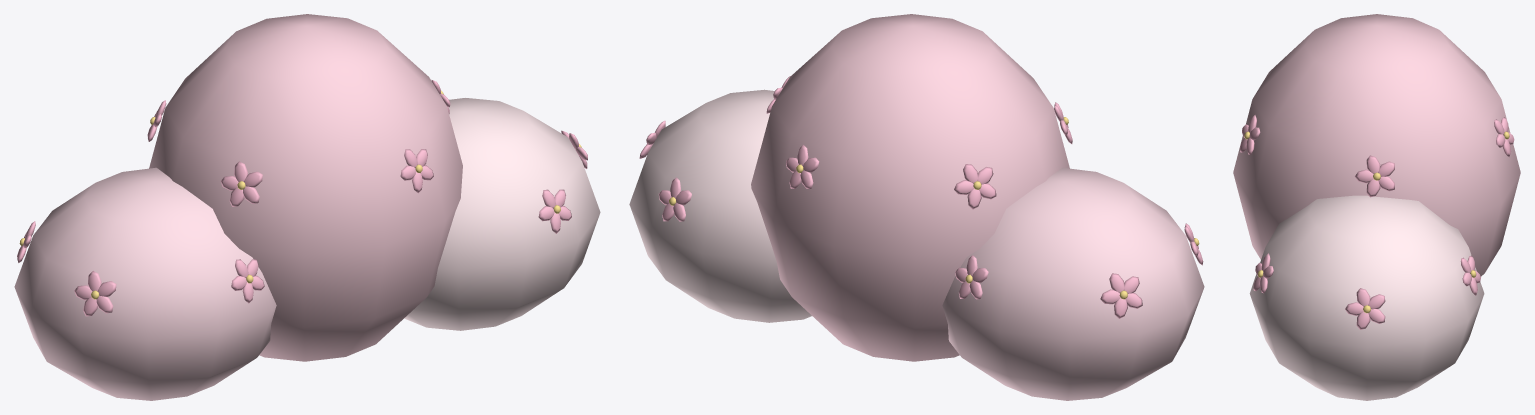
File: bush_mounded_spring.glb
The picture shows the model from 3 angles, left to right: view 1: azimuth 30°, elevation 25°; view 2: azimuth 150°, elevation 25°; view 3: azimuth 270°, elevation 25°; orthographic projection. The views are drawn at different scales.
Bounding box in the file's own units: 1.74 × 0.98 × 0.8701.
